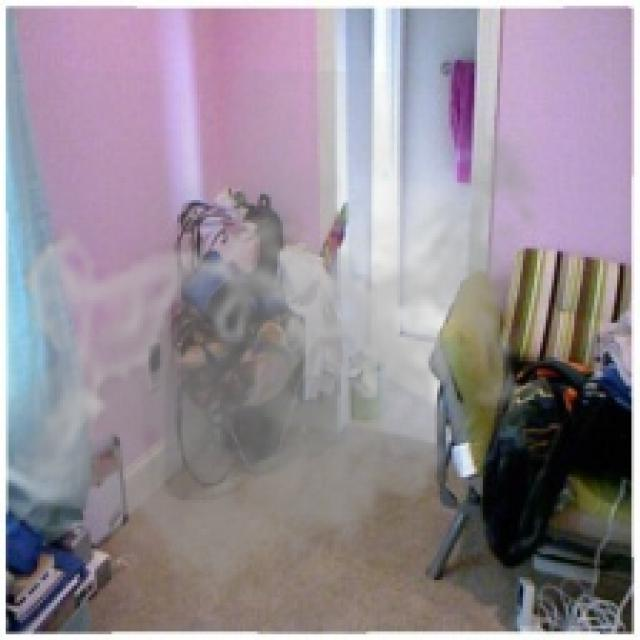smoke: (9, 71, 557, 620)
